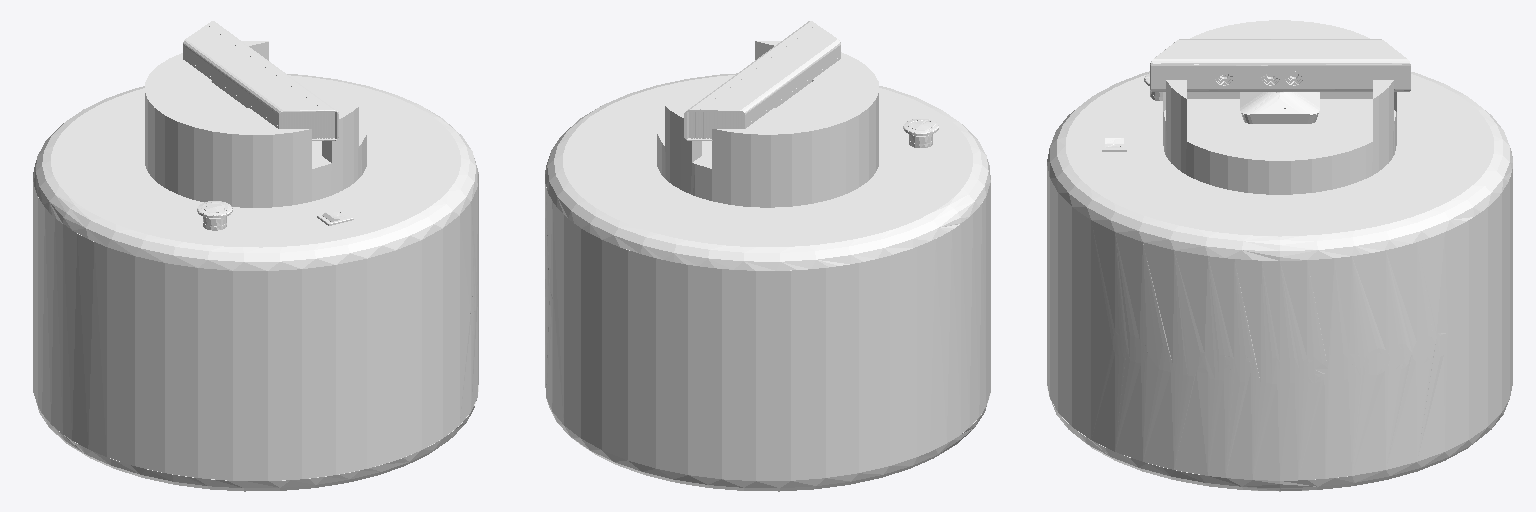
The robot description file, URDF, robot "robot":
<?xml version="1.0" encoding="utf-8"?>
<!-- This URDF was automatically created by SolidWorks to URDF Exporter! Originally created by [author] ([email redacted]) 
     Commit Version: 1.6.0-1-g15f4949  Build Version: 1.6.7594.29634
     For more information, please see http://wiki.ros.org/sw_urdf_exporter -->
<robot
  name="robot">
  <link name="base_link">
    <inertial>
      <origin
        xyz="0 0 0.14107"
        rpy="0 0 0" />
      <mass
        value="16.373" />
      <inertia
        ixx="0.43238"
        ixy="0"
        ixz="0"
        iyy="0.40817"
        iyz="0"
        izz="0.72814" />
    </inertial>
    <visual>
      <origin
        xyz="0 0 0"
        rpy="1.5708 0 1.5708" />
      <geometry>
        <mesh
          filename="package://robot/meshes/base_link.dae" />
      </geometry>
      <material
        name="">
        <color
          rgba="1 1 1 1" />
      </material>
    </visual>
    <collision>
      <origin
        xyz="0 0 0.15"
        rpy="0 0 0" />
      <geometry>
        <cylinder length="0.3" radius="0.25"/>
      </geometry>
    </collision>
  </link>
  <link name="right_link">
    <inertial>
      <origin
        xyz="6.9389E-18 3.4694E-18 -0.01"
        rpy="0 0 0" />
      <mass
        value="0.15708" />
      <inertia
        ixx="0.00010341"
        ixy="0"
        ixz="0"
        iyy="0.00010341"
        iyz="0"
        izz="0.00019635" />
    </inertial>
    <visual>
      <origin
        xyz="0 0 0"
        rpy="0 0 0" />
      <geometry>
        <mesh
          filename="package://robot/meshes/right_link.STL" />
      </geometry>
      <material
        name="">
        <color
          rgba="0.25098 0.25098 0.25098 1" />
      </material>
    </visual>
    <collision>
      <origin
        xyz="0 0 -0.01"
        rpy="0 0 0" />
      <geometry>
        <cylinder length="0.02" radius="0.05"/>
      </geometry>
      <surface>
        <friction>
          <ode>
            <mu>0.01</mu>
            <mu2>0.01</mu2>
          </ode>
        </friction>
      </surface>
    </collision>
  </link>
  <joint name="right_joint"
    type="continuous">
    <origin
      xyz="0 -0.17 0.04"
      rpy="1.5708 0.72267 -3.1416" />
    <parent
      link="base_link" />
    <child
      link="right_link" />
    <axis
      xyz="0 0 1" />
  </joint>
  <link name="left_link">
    <inertial>
      <origin
        xyz="0 0 0.01"
        rpy="0 0 0" />
      <mass
        value="0.15708" />
      <inertia
        ixx="0.00010341"
        ixy="0"
        ixz="0"
        iyy="0.00010341"
        iyz="0"
        izz="0.00019635" />
    </inertial>
    <visual>
      <origin
        xyz="0 0 0"
        rpy="0 0 0" />
      <geometry>
        <mesh
          filename="package://robot/meshes/left_wheel.STL" />
      </geometry>
      <material
        name="">
        <color
          rgba="0.25098 0.25098 0.25098 1" />
      </material>
    </visual>
    <collision>
      <origin
        xyz="0 0 0.01"
        rpy="0 0 0" />
      <geometry>
        <cylinder length="0.02" radius="0.05"/>
      </geometry>
      <surface>
        <friction>
          <ode>
            <mu>0.01</mu>
            <mu2>0.01</mu2>
          </ode>
        </friction>
      </surface>
    </collision>
  </link>
  <joint name="left_joint"
    type="continuous">
    <origin
      xyz="0 0.17 0.04"
      rpy="1.5708 0.44244 -3.1416" />
    <parent
      link="base_link" />
    <child
      link="left_link" />
    <axis
      xyz="0 0 1" />
  </joint>
  <link name="camera_link">
    <inertial>
      <origin
        xyz="-0.0044236 1.4174E-05 -0.15054"
        rpy="0 0 0" />
      <mass
        value="1.0" />
      <inertia
        ixx="0.11706"
        ixy="0"
        ixz="0"
        iyy="0.11521"
        iyz="0"
        izz="0.099498" />
    </inertial>
    <visual>
      <origin
        xyz="0 0 0"
        rpy="0 0 0" />
      <geometry>
        <mesh
          filename="package://robot/meshes/camera_link.STL" />
      </geometry>
      <material
        name="">
        <color
          rgba="1 1 1 1" />
      </material>
    </visual>
    <collision>
      <origin
        xyz="0 0 -0.143.5"
        rpy="0 0 0" />
      <geometry>
        <cylinder length="0.28" radius="0.125"/>
      </geometry>
    </collision>
  </link>
  <joint name="camera_joint"
    type="prismatic">
    <origin
      xyz="0 0 0.3935"
      rpy="0 0 0" />
    <parent
      link="base_link" />
    <child
      link="camera_link" />
    <axis
      xyz="0 0 1" />
    <limit
      lower="0"
      upper="1.0"
      effort="10000.0"
      velocity="1.0" />
  </joint>
  <link name="front_scroll">
    <inertial>
      <origin
        xyz="-2.7756E-17 7.2823E-19 -0.003375"
        rpy="0 0 0" />
      <mass
        value="0.0015268" />
      <inertia
        ixx="3.2077E-08"
        ixy="0"
        ixz="0"
        iyy="3.2077E-08"
        iyz="0"
        izz="4.9469E-08" />
    </inertial>
    <visual>
      <origin
        xyz="0 0 0"
        rpy="0 0 0" />
      <geometry>
        <mesh
          filename="package://robot/meshes/front_scroll.STL" />
      </geometry>
      <material
        name="">
        <color
          rgba="1 1 1 1" />
      </material>
    </visual>
    <collision>
      <origin
        xyz="0 0 0"
        rpy="0 0 0" />
      <geometry>
        <sphere radius="0.009"/>
      </geometry>
    </collision>
  </link>
  <joint name="front_scroll_link"
    type="fixed">
    <origin
      xyz="0.19 0 0"
      rpy="0 0 0" />
    <parent
      link="base_link" />
    <child
      link="front_scroll" />
    <axis
      xyz="0 0 0" />
  </joint>
  <link name="back_scroll">
    <inertial>
      <origin
        xyz="-2.7756E-17 -3.8977E-18 -0.003375"
        rpy="0 0 0" />
      <mass
        value="0.0015268" />
      <inertia
        ixx="3.2077E-08"
        ixy="0"
        ixz="0"
        iyy="3.2077E-08"
        iyz="0"
        izz="4.9469E-08" />
    </inertial>
    <visual>
      <origin
        xyz="0 0 0"
        rpy="0 0 0" />
      <geometry>
        <mesh
          filename="package://robot/meshes/back_scroll.STL" />
      </geometry>
      <material
        name="">
        <color
          rgba="1 1 1 1" />
      </material>
    </visual>
    <collision>
      <origin
        xyz="0 0 0"
        rpy="0 0 0" />
      <geometry>
        <sphere radius="0.009"/>
      </geometry>
    </collision>
  </link>
  <joint name="back_scroll_link"
    type="fixed">
    <origin
      xyz="-0.19 0 0"
      rpy="0 0 0" />
    <parent
      link="base_link" />
    <child
      link="back_scroll" />
    <axis
      xyz="0 0 0" />
  </joint>

  <link name="kinect_depth_frame">
    <inertial>
        <mass value="0.0001" />
        <origin xyz="0 0 0" />
        <inertia ixx="0.0001" ixy="0.0" ixz="0.0"
                iyy="0.0001" iyz="0.0" 
                izz="0.0001" />
    </inertial>
  </link>
  <joint name="kinect_depth_joint" type="fixed">
    <origin xyz="0 0.028 0" rpy="0 0 0" />
    <parent link="camera_link" />
    <child link="kinect_depth_frame" />
  </joint>
  <link name="kinect_depth_optical_frame">
    <inertial>
        <mass value="0.0001" />
        <origin xyz="0 0 0" />
        <inertia ixx="0.0001" ixy="0.0" ixz="0.0"
                iyy="0.0001" iyz="0.0" 
                izz="0.0001" />
    </inertial>
  </link>
  <joint name="depth_optical_joint" type="fixed">
    <origin xyz="0 0 0" rpy="-1.5708 0 -1.5708" />
    <parent link="kinect_depth_frame" />
    <child link="kinect_depth_optical_frame" />
  </joint>

  <transmission name="camera_link_transmission">
    <type>transmission_interface/SimpleTransmission</type>
    <joint name="camera_joint">
      <hardwareInterface>hardware_interface/PositionJointInterface</hardwareInterface>
    </joint>
    <actuator name="camera_motor">
      <hardwareInterface>hardware_interface/PositionJointInterface</hardwareInterface>
      <mechanicalReduction>1</mechanicalReduction>
    </actuator>
  </transmission>

  <gazebo>
    <plugin name="differential_drive_controller" filename="libgazebo_ros_diff_drive.so">
      <legacyMode>false</legacyMode>
      <alwaysOn>true</alwaysOn>
      <updateRate>10</updateRate>
      <leftJoint>left_joint</leftJoint>
      <rightJoint>right_joint</rightJoint>
      <wheelSeparation>0.36</wheelSeparation>
      <wheelDiameter>0.1</wheelDiameter>
      <wheelAcceleration>1.0</wheelAcceleration>
      <wheelTorque>50</wheelTorque>
      <commandTopic>cmd_vel</commandTopic>
      <odometryTopic>odom</odometryTopic>
      <odometryFrame>odom</odometryFrame>
      <robotBaseFrame>base_link</robotBaseFrame>
      <publishWheelTF>false</publishWheelTF>
      <publishWheelJointState>true</publishWheelJointState>
      <odometrySource>1</odometrySource>
      <publishOdom>true</publishOdom>
      <legacyMode>false</legacyMode>
    </plugin>
    <plugin name="gazebo_ros_control" filename="libgazebo_ros_control.so">
      <robotNamespace>/robot</robotNamespace>
    </plugin>
  </gazebo>

  <gazebo reference="kinect_depth_frame">
    <sensor name="camera" type="depth">
      <always_on>1</always_on>
      <update_rate>10</update_rate>
      <visualize>true</visualize>   
      <camera>
        <horizontal_fov>1.047</horizontal_fov>
        <image>
          <width>640</width>
          <height>480</height>
          <format>R8G8B8</format>
        </image>
        <clip>
          <near>0.1</near>
        </clip>
      </camera>
      <plugin name="camera_controller" filename="libgazebo_ros_openni_kinect.so">
        <baseline>0.2</baseline>
        <alwaysOn>true</alwaysOn>
        <updateRate>20</updateRate>
        <cameraName>camera</cameraName>
        <imageTopicName>rgb/image_raw</imageTopicName>
        <cameraInfoTopicName>rgb/camera_info</cameraInfoTopicName>
        <depthImageTopicName>depth/image_raw</depthImageTopicName>
        <depthImageInfoTopicName>depth/camera_info</depthImageInfoTopicName>
        <pointCloudTopicName>depth/points</pointCloudTopicName>
        <frameName>kinect_depth_optical_frame</frameName>
        <pointCloudCutoff>0.6</pointCloudCutoff>
        <pointCloudCutoffMax>5.0</pointCloudCutoffMax>
        <distortionK1>0.0</distortionK1>
        <distortionK2>0.0</distortionK2>
        <distortionK3>0.0</distortionK3>
        <distortionT1>0.0</distortionT1>
        <distortionT2>0.0</distortionT2>
        <CxPrime>0</CxPrime>
        <Cx>0</Cx>
        <Cy>0</Cy>
        <focalLength>0</focalLength>
        <hackBaseline>0.4</hackBaseline>
      </plugin>
    </sensor>
  </gazebo>

</robot>

--- What the picture shows (computed from the rendered views, not written in the file) ---
3 views of the same robot in one strip: view 1: azimuth 30°, elevation 25°; view 2: azimuth 150°, elevation 25°; view 3: azimuth 270°, elevation 25° (orthographic).
Robot: robot — 8 links, 7 joints (2 continuous, 1 prismatic, 4 fixed); root link base_link; default pose: every joint at zero.
Links seen in each view (by area): view 1: base_link, camera_link; view 2: base_link, camera_link; view 3: base_link, camera_link.
Link boxes in pixels (bbox=[...]): base_link: bbox=[33, 74, 478, 491]; camera_link: bbox=[145, 21, 366, 207]; base_link: bbox=[545, 73, 990, 491]; camera_link: bbox=[657, 21, 878, 207]; base_link: bbox=[1047, 71, 1512, 491]; camera_link: bbox=[1150, 20, 1410, 194].
Bounding box of the posed robot: 0.5 × 0.5 × 0.4225 m (x, y, z).
6 mesh visuals loaded from 6 distinct referenced files (5 binary STL, 1 Collada DAE).